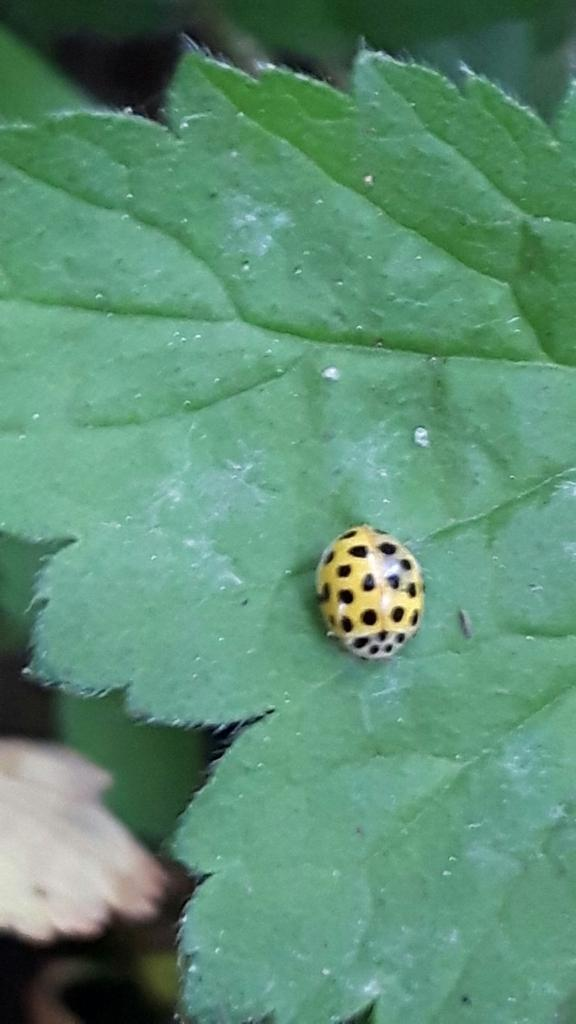ladybug: (309, 519, 431, 669)
